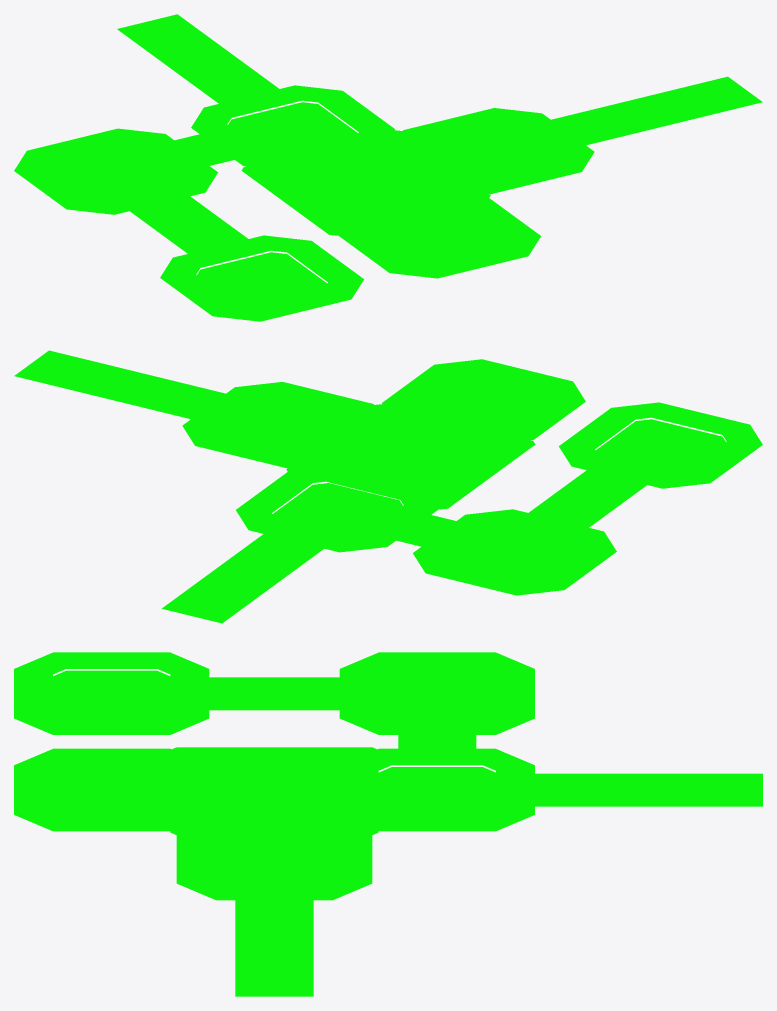
The model's file is s06b_lc1-floor.glb.
The picture shows the model from 3 angles, top to bottom: view 1: azimuth 30°, elevation 25°; view 2: azimuth 150°, elevation 25°; view 3: azimuth 270°, elevation 25°; orthographic projection. The views are drawn at different scales.
Parts seen in each view (by area): view 1: collision_floor-colonly; view 2: collision_floor-colonly; view 3: collision_floor-colonly.
Part boxes in pixels (x1=…): collision_floor-colonly: x1=14, y1=14, x2=762, y2=321; collision_floor-colonly: x1=14, y1=350, x2=762, y2=623; collision_floor-colonly: x1=14, y1=652, x2=762, y2=996.
Bounding box in the file's own units: 62.5 × 0.1504 × 57.5.
